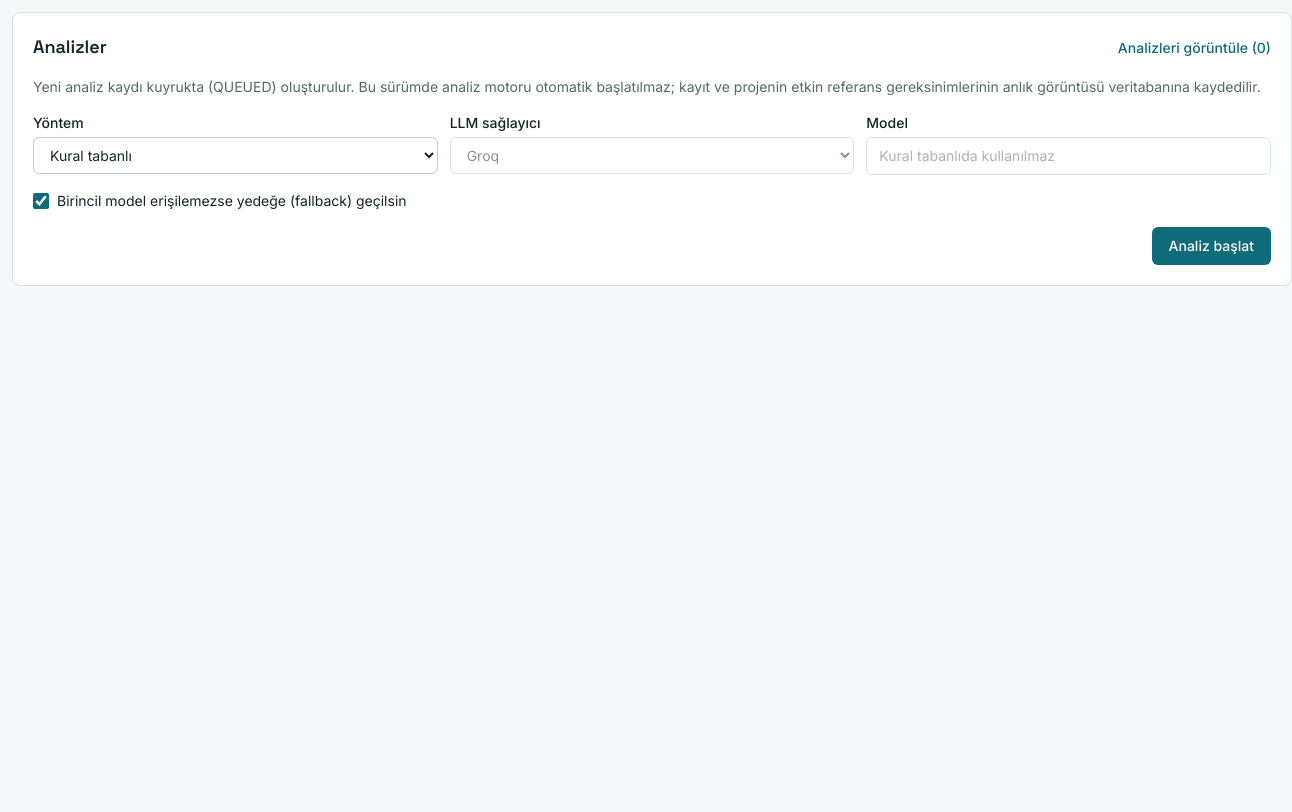
LLM yöntemi sağlayıcı/model ile gönderilir
Select "LLM tabanlı" in the dropdown labelled "Yöntem" at (235, 156), box left=33, top=137, right=438, bottom=174
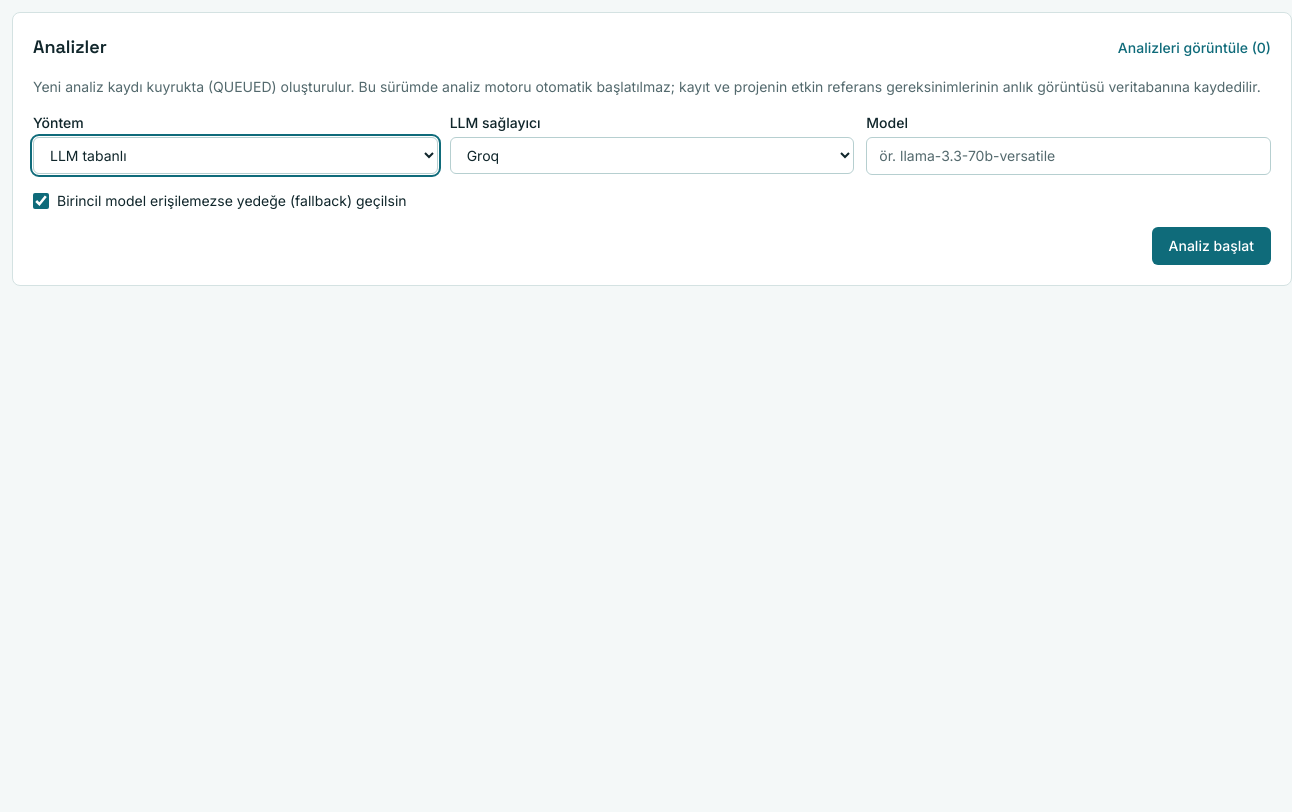
Select "Ollama" in the dropdown labelled "LLM sağlayıcı" at (652, 156), box left=450, top=137, right=854, bottom=174
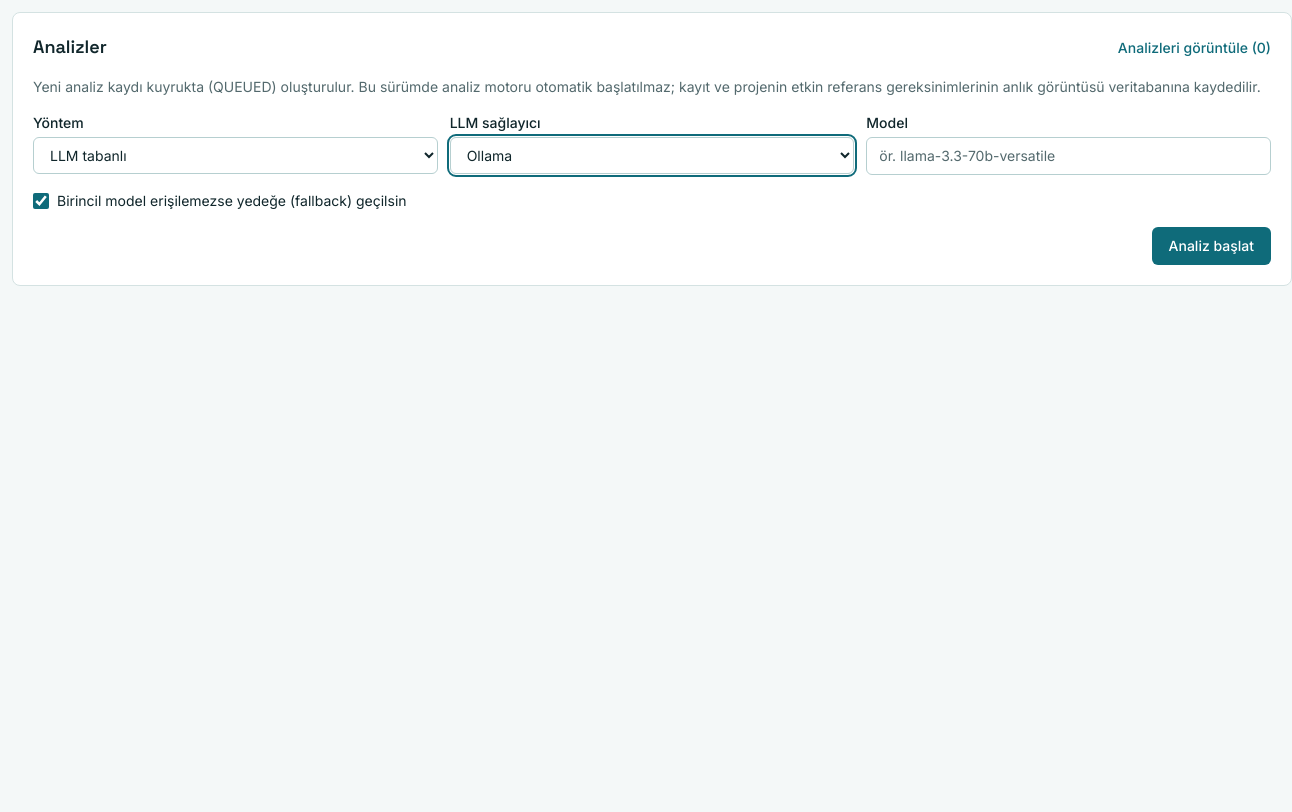
Type "llama3" into the field labelled "Model" at (1069, 156), box left=866, top=137, right=1271, bottom=175
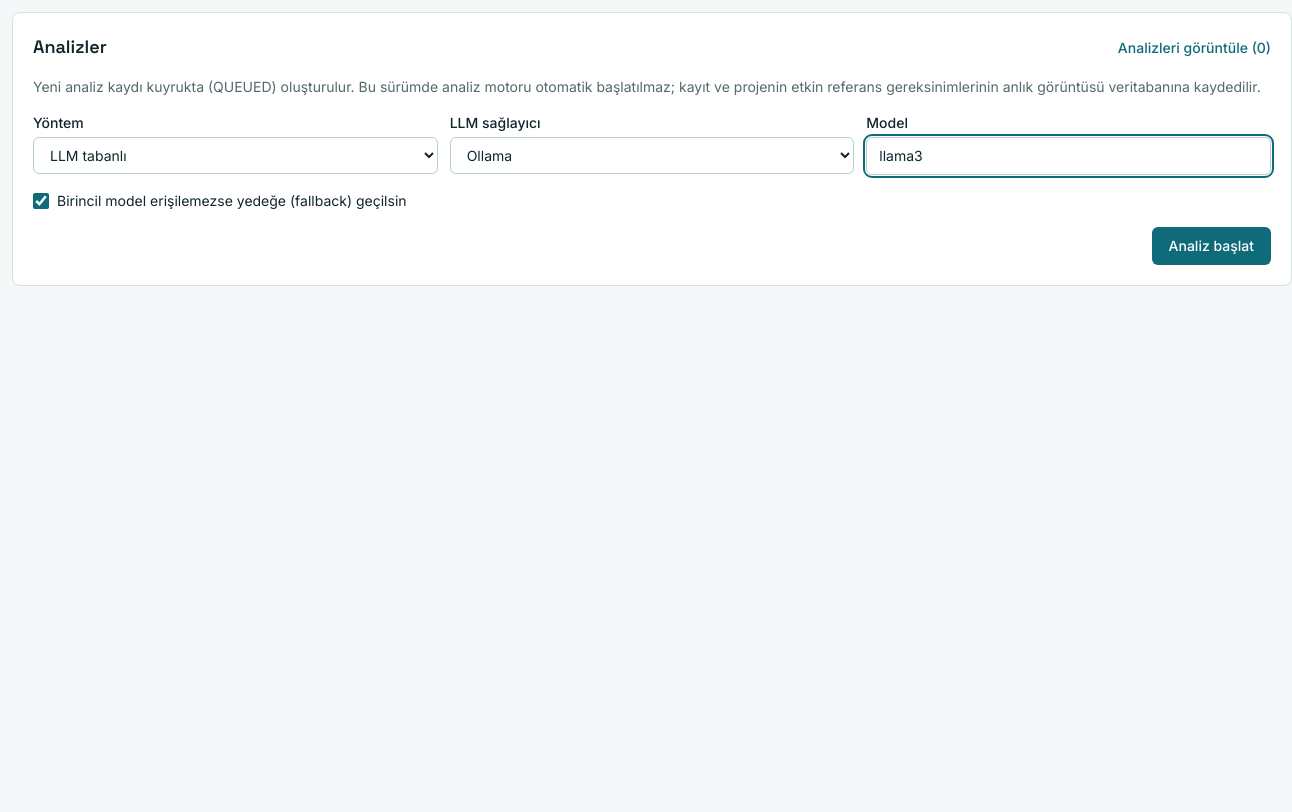
Click the checkbox labelled "Birincil model erişilemezse yedeğe (fallback) geçilsin" at (41, 201), box left=33, top=193, right=49, bottom=209
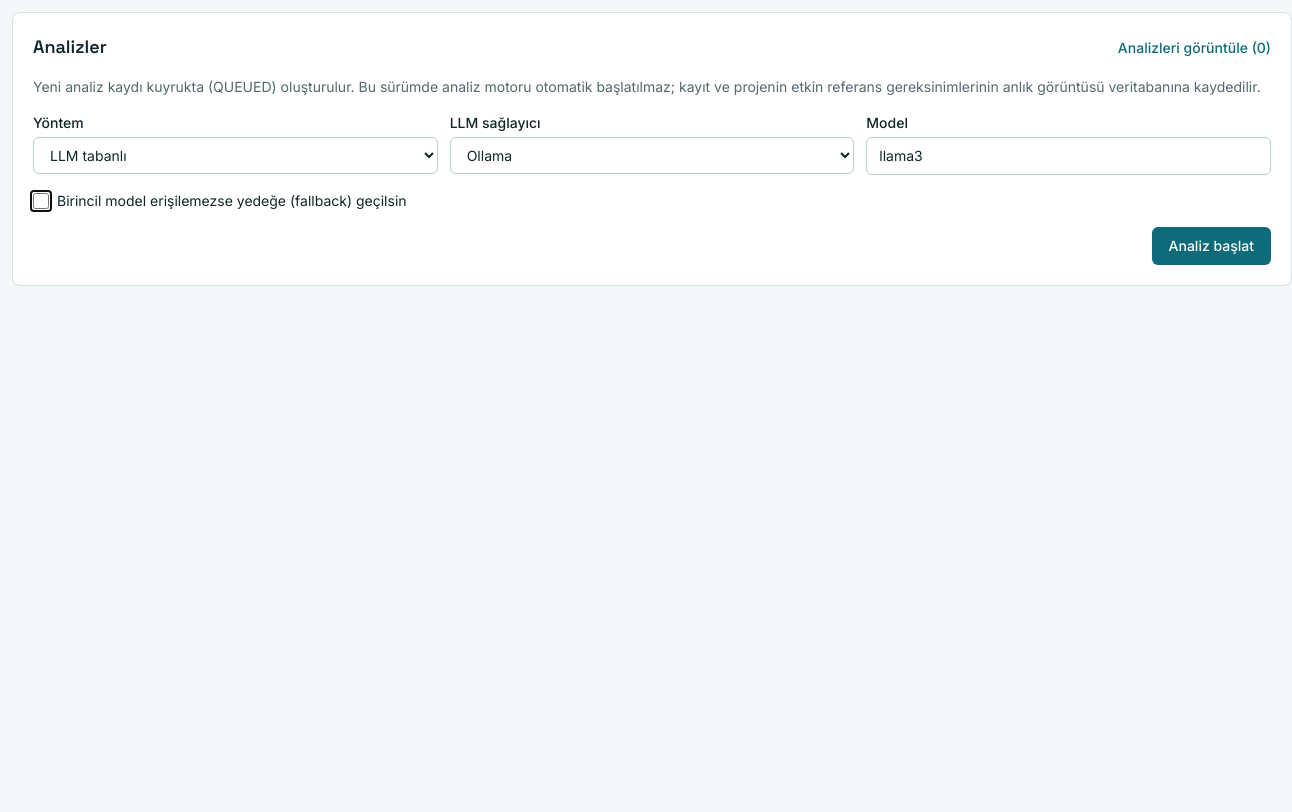
Click the button "Analiz başlat" at (1211, 246), box left=1152, top=227, right=1271, bottom=265
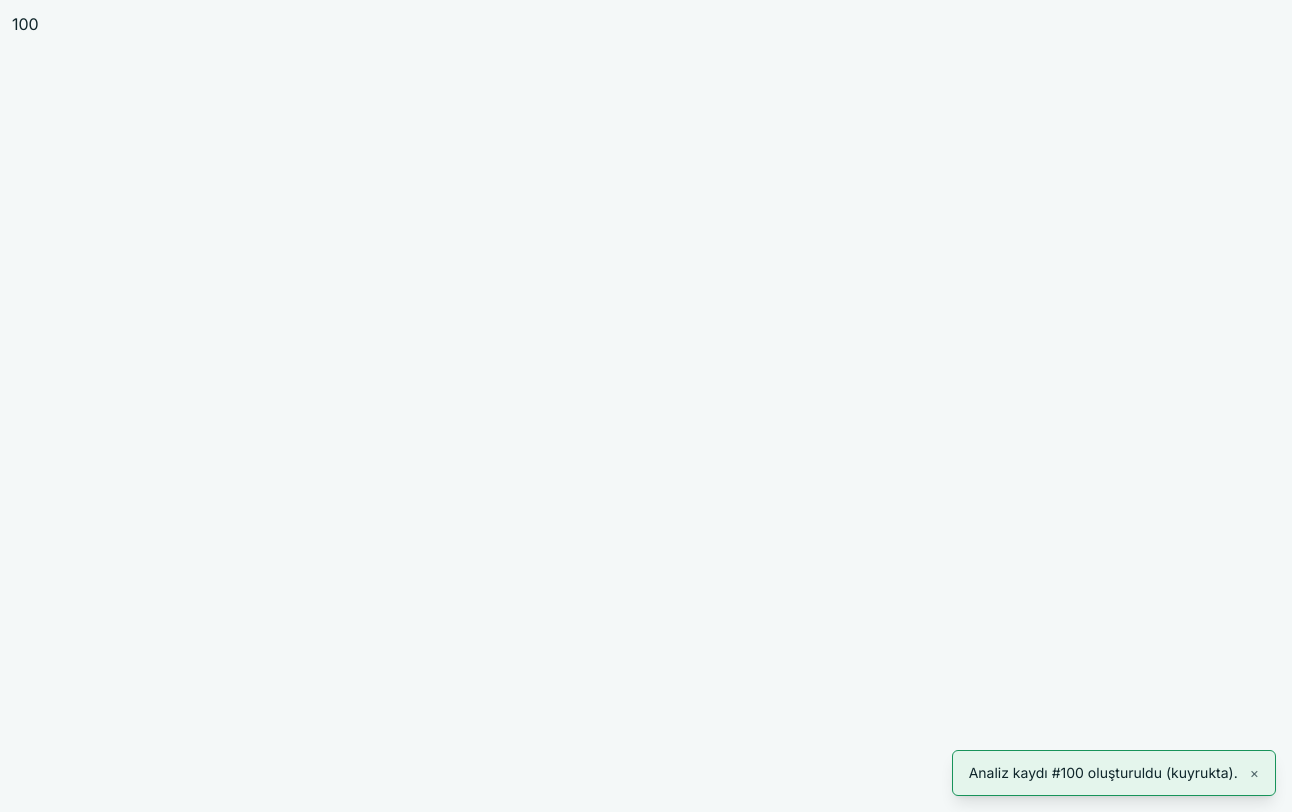
Now the text "100" is shown, box left=12, top=14, right=39, bottom=34
